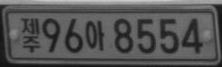4: (181, 17, 203, 54)
5: (136, 17, 156, 54), (159, 17, 179, 54)
6: (64, 17, 83, 52)
8: (112, 17, 134, 53)
9: (41, 16, 61, 52)
아: (84, 20, 105, 51)
제주_V: (21, 17, 41, 52)
